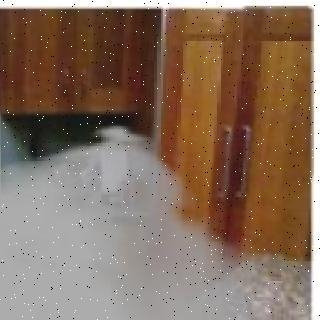smoke: (0, 151, 252, 320)
